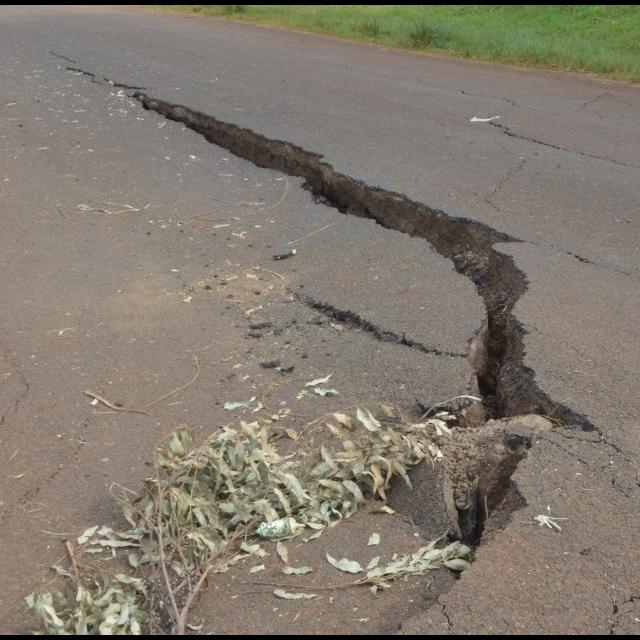retak_memanjang: (79, 58, 439, 245), (452, 113, 640, 221), (255, 286, 474, 366)
